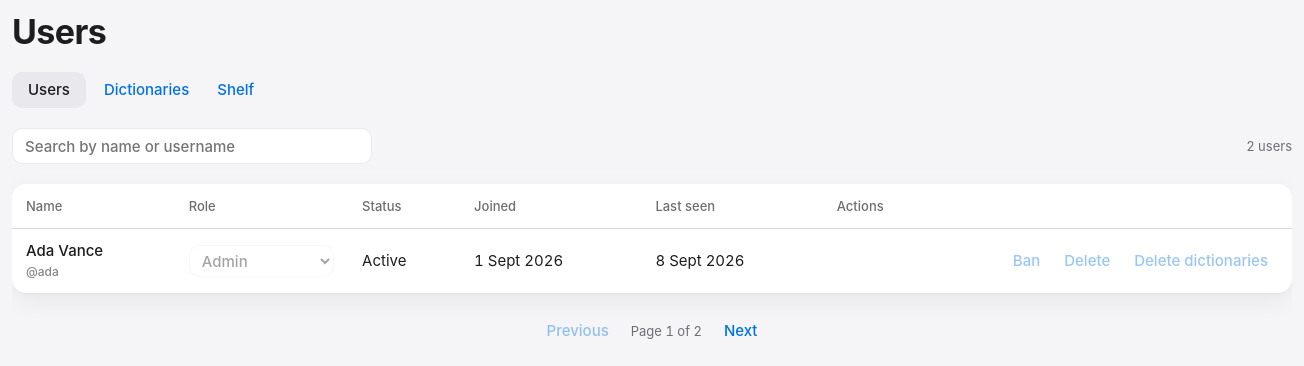
Test case: AdminScreen › steps back to the last page when a delete empties the current one
Click the button with class "next". click: (741, 331)
box: [714,313,768,349]
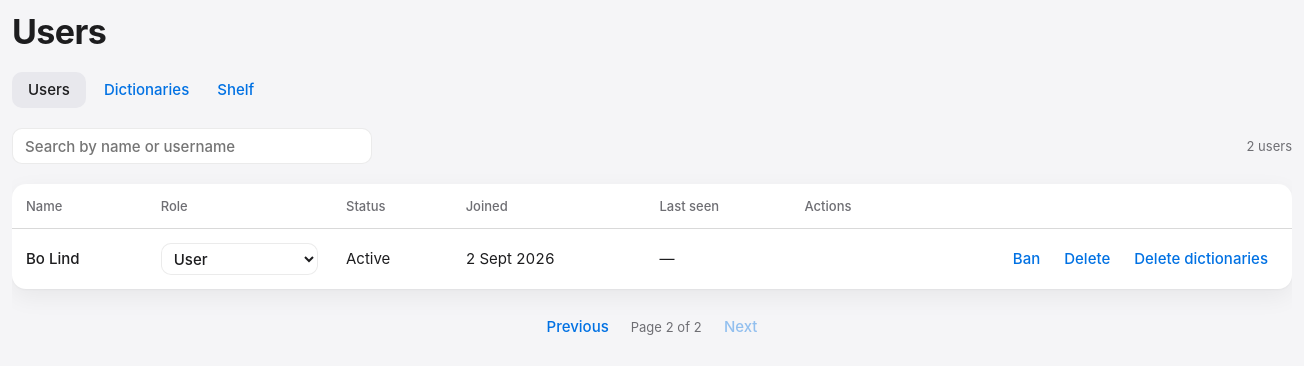
Expected: the text with class "user-name" reads "Bo Lind", [26,249,80,268]
Click the button with class "delete". click: (1087, 259)
box: [1054,241,1120,277]
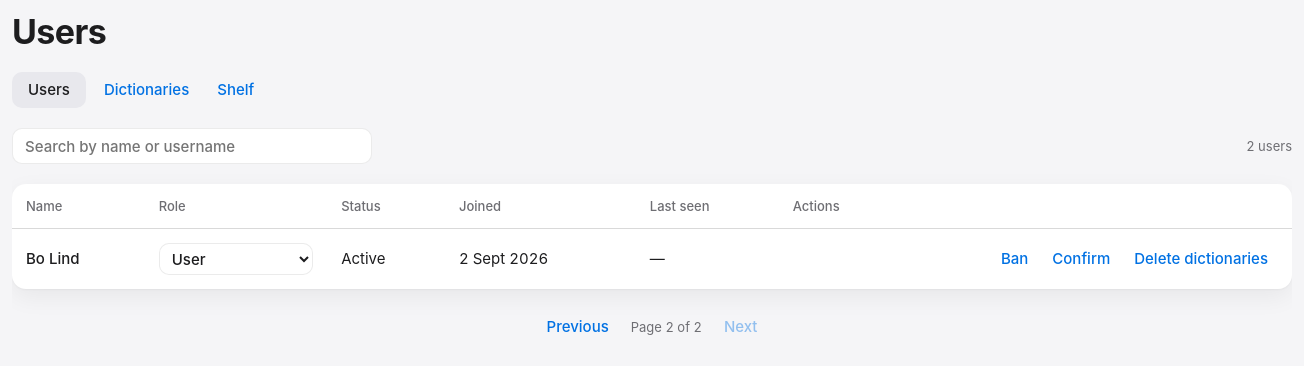
Click the button with class "delete". click: (1081, 259)
box: [1042,241,1120,277]
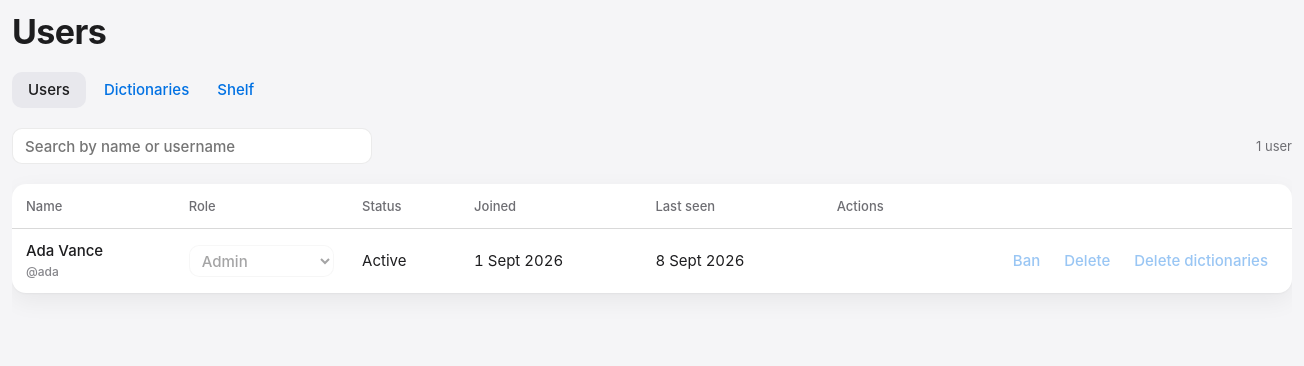
Expected: the text with class "user-name" reads "Ada Vance", [26,241,103,260]
Expected: the navigation bar with class "admin-pager" is gone
